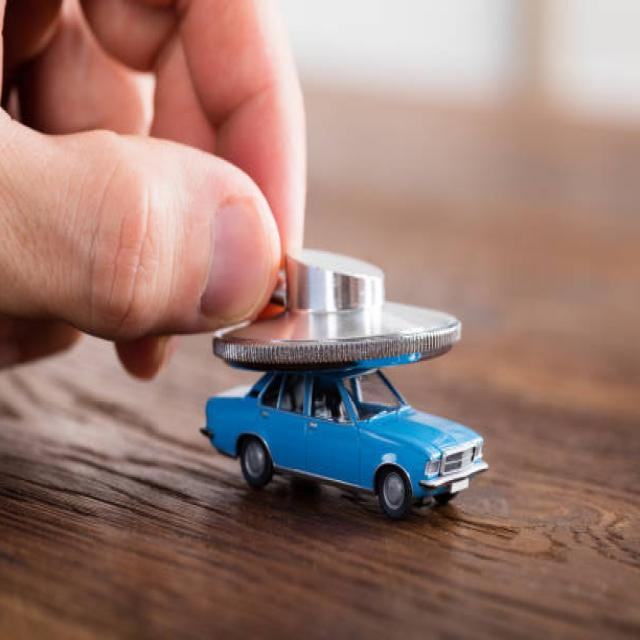Car: (200, 364, 489, 519)
